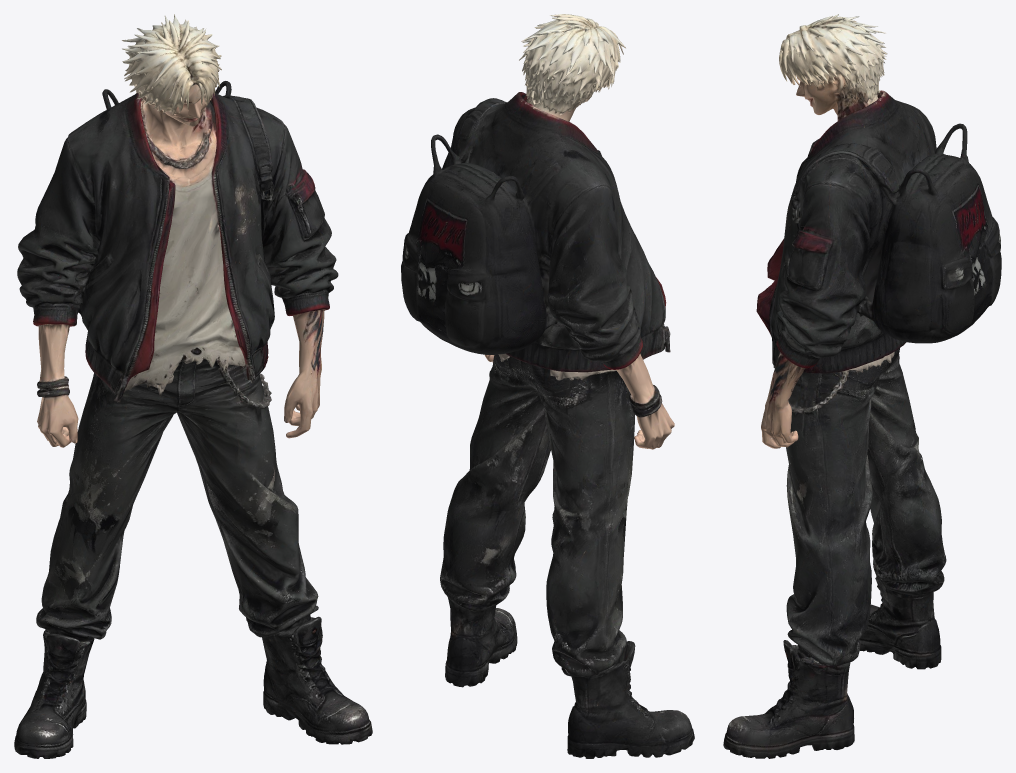
File: street_punk.glb
3 renders of one model, left to right at view 1: azimuth 30°, elevation 25°; view 2: azimuth 150°, elevation 25°; view 3: azimuth 270°, elevation 25°, orthographic. The views are drawn at different scales.
Parts seen in each view (by area): view 1: Mesh_0; view 2: Mesh_0; view 3: Mesh_0.
Part boxes in pixels (x1,y1,x2,y2): Mesh_0: (14, 14, 372, 758); Mesh_0: (401, 14, 694, 758); Mesh_0: (723, 14, 1001, 758).
Bounding box in the file's own units: 0.769 × 1.8 × 0.6728.
Materials: 1 (1 with a texture image).
